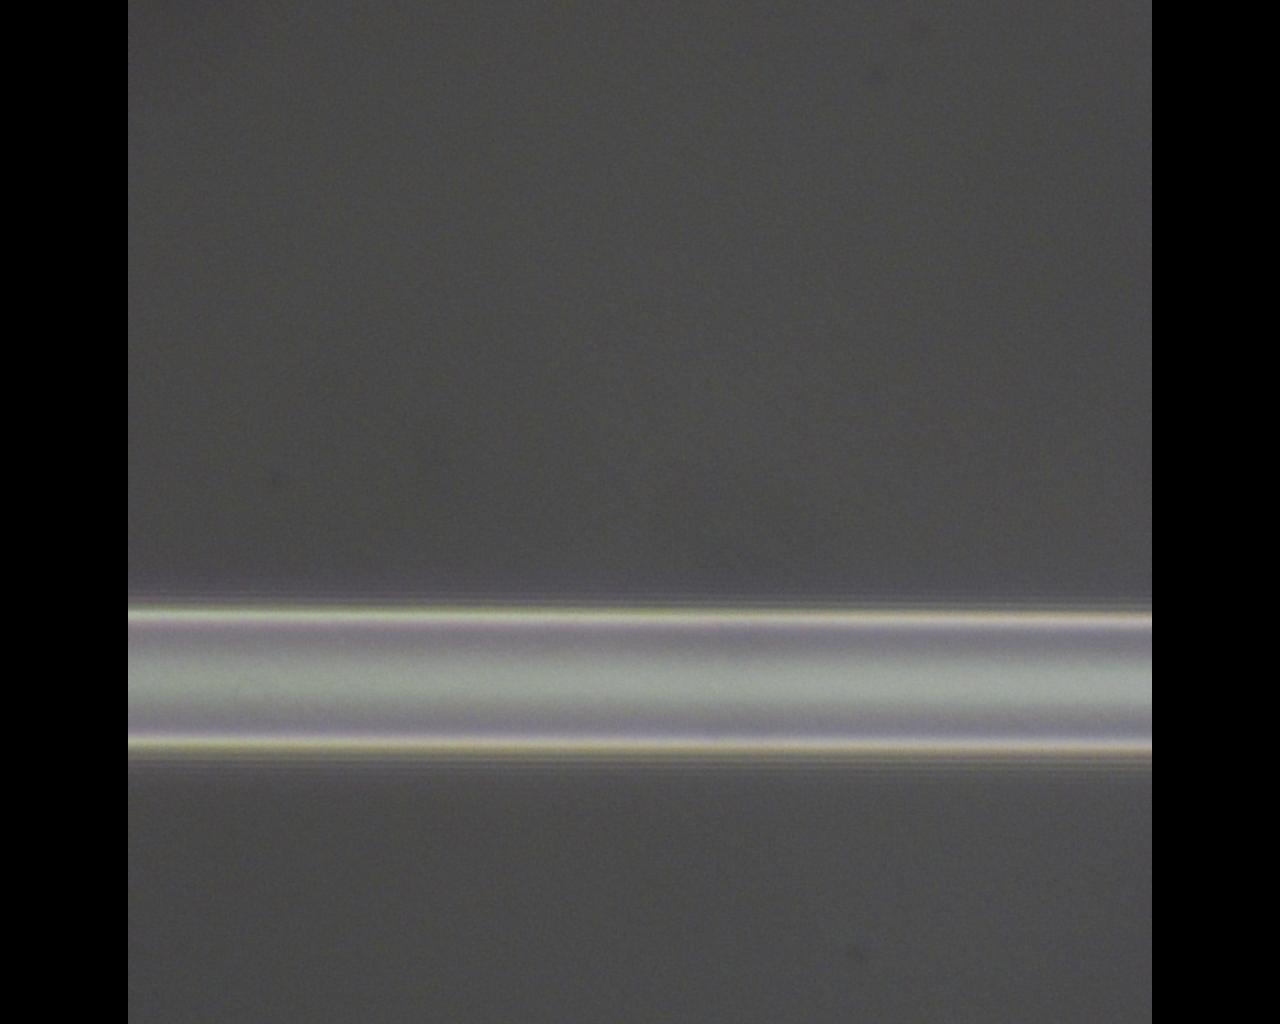fiber: (299, 491, 576, 750), (576, 491, 669, 1024), (1113, 0, 1130, 491)
